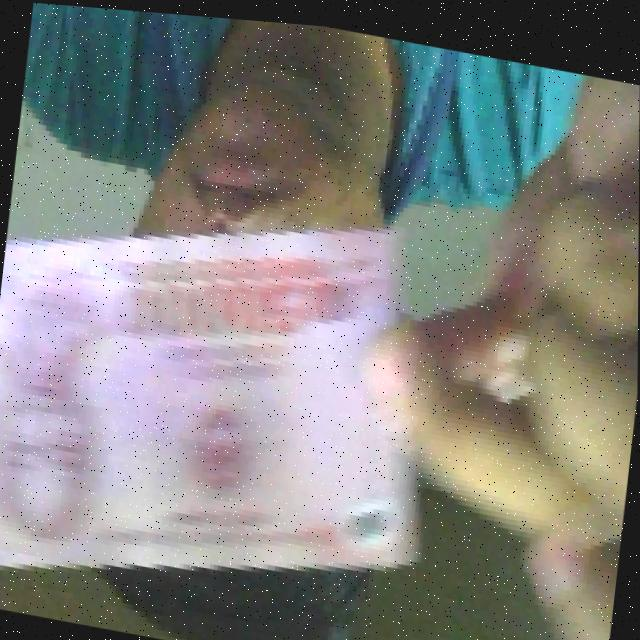50 000 VND: (0, 152, 456, 640)
